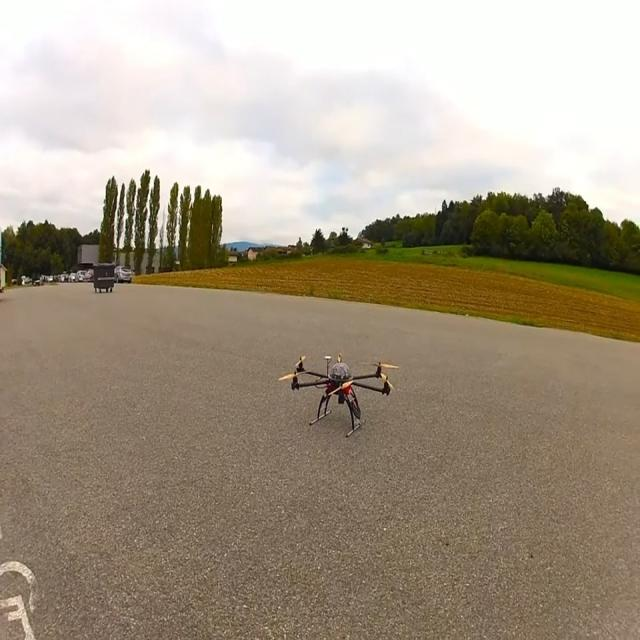drone: (277, 351, 399, 437)
